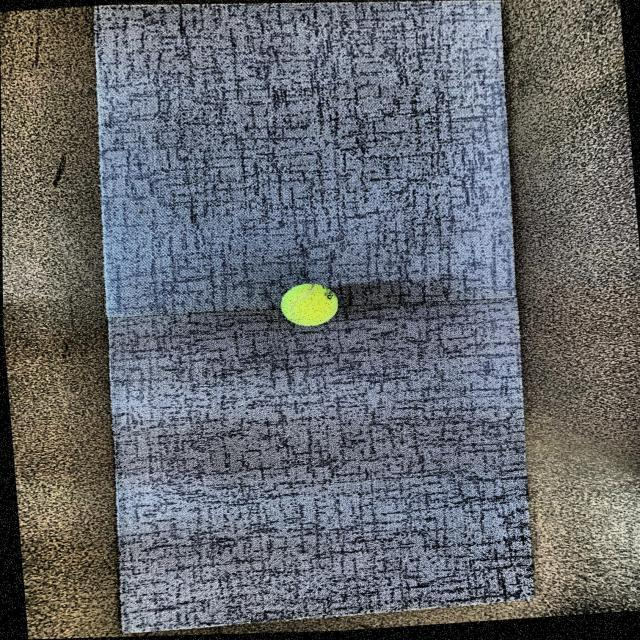tennis-ball: (273, 278, 348, 336)
